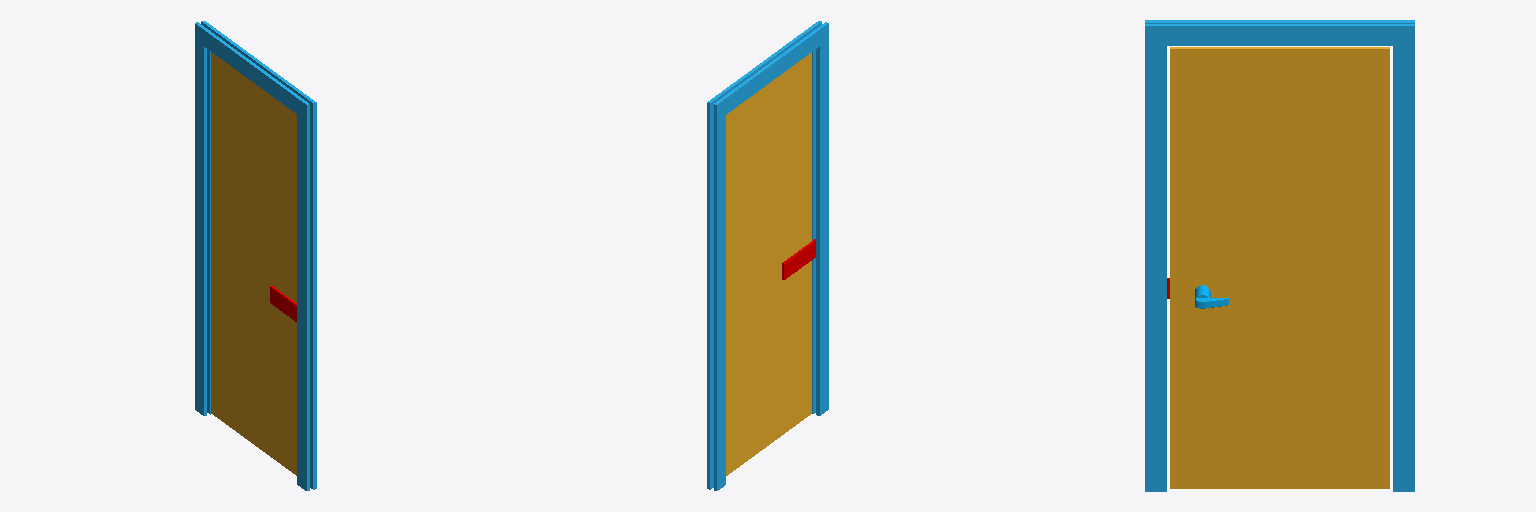
The robot description file, URDF, robot "door":
<?xml version="0.0" ?>
<robot name="door">

  <link name="frame_base">
    <contact>
        <lateral_friction value="0.5"/>
        <rolling_friction value="0.001"/>
        <spinning_friction value="0.01"/>
    </contact>
    <inertial>
      <origin rpy="0 0 0" xyz="0 0 0"/>
       <mass value="500"/>
       <inertia ixx="0.001" ixy="0" ixz="0" iyy="0.001" iyz="0" izz="0.001"/>
    </inertial>
    <visual>
      <origin rpy="0 0 0" xyz="0 0 0"/>
      <geometry>
				<box size="0 0 0"/>
      </geometry>
       <material name="blueish">
        <color rgba="0.2 0.75 1.0 1"/>
      </material>
    </visual>
    <collision>
      <origin rpy="0 0 0" xyz="0 0 0"/>
      <geometry>
				<box size="0 0 0"/>
      </geometry>
    </collision>
  </link>

  <link name="frame_1">
    <contact>
        <lateral_friction value="0.5"/>
        <rolling_friction value="0.001"/>
        <spinning_friction value="0.01"/>
    </contact>
    <inertial>
      <origin rpy="0 0 0" xyz="0 0 0"/>
       <mass value="500"/>
       <inertia ixx="0.001" ixy="0" ixz="0" iyy="0.001" iyz="0" izz="0.001"/>
    </inertial>
    <visual>
      <origin rpy="0 0 0" xyz="0 0 0"/>
      <geometry>
				<box size="0.022 0.1 2.3240000000000002"/>
      </geometry>
       <material name="blueish">
        <color rgba="0.2 0.75 1.0 1"/>
      </material>
    </visual>
    <collision>
      <origin rpy="0 0 0" xyz="0 0 0"/>
      <geometry>
				<box size="0.022 0.1 2.3240000000000002"/>
      </geometry>
    </collision>
  </link>
  <joint
    name="joint_base_1"
    type="fixed">
    <origin xyz="0 -0.21000000000000002 0.16200000000000014" rpy="0 0 0" />
    <parent link="frame_base" />
    <child link="frame_1" />
  </joint>

  <link name="frame_2">
    <contact>
        <lateral_friction value="0.5"/>
        <rolling_friction value="0.001"/>
        <spinning_friction value="0.01"/>
    </contact>
    <inertial>
      <origin rpy="0 0 0" xyz="0 0 0"/>
       <mass value="500"/>
       <inertia ixx="0.001" ixy="0" ixz="0" iyy="0.001" iyz="0" izz="0.001"/>
    </inertial>
    <visual>
      <origin rpy="0 0 0" xyz="0 0 0"/>
      <geometry>
				<box size="0.022 0.1 2.3240000000000001"/>
      </geometry>
       <material name="blueish">
        <color rgba="0.2 0.75 1.0 1"/>
      </material>
    </visual>
    <collision>
      <origin rpy="0 0 0" xyz="0 0 0"/>
      <geometry>
				<box size="0.022 0.1 2.3240000000000001"/>
      </geometry>
    </collision>
  </link>
  <joint
    name="joint_base_2"
    type="fixed">
    <origin xyz="0 0.91 0.16200000000000014" rpy="0 0 0" />
    <parent link="frame_base" />
    <child link="frame_2" />
  </joint>

  <link name="frame_3">
    <contact>
        <lateral_friction value="0.5"/>
        <rolling_friction value="0.001"/>
        <spinning_friction value="0.01"/>
    </contact>
    <inertial>
      <origin rpy="0 0 0" xyz="0 0 0"/>
       <mass value="500"/>
       <inertia ixx="0.001" ixy="0" ixz="0" iyy="0.001" iyz="0" izz="0.001"/>
    </inertial>
    <visual>
      <origin rpy="0 0 0" xyz="0 0 0"/>
      <geometry>
				<box size="0.022 1.2 0.1"/>
      </geometry>
       <material name="blueish">
        <color rgba="0.2 0.75 1.0 1"/>
      </material>
    </visual>
    <collision>
      <origin rpy="0 0 0" xyz="0 0 0"/>
      <geometry>
				<box size="0.022 1.2 0.1"/>
      </geometry>
    </collision>
  </link>
  <joint
    name="joint_base_3"
    type="fixed">
    <origin xyz="0 0.35 1.2740000000000002" rpy="0 0 0" />
    <parent link="frame_base" />
    <child link="frame_3" />
  </joint>

  <link name="frame_4">
    <contact>
        <lateral_friction value="0.5"/>
        <rolling_friction value="0.001"/>
        <spinning_friction value="0.01"/>
    </contact>
    <inertial>
      <origin rpy="0 0 0" xyz="0 0 0"/>
       <mass value="500"/>
       <inertia ixx="0.001" ixy="0" ixz="0" iyy="0.001" iyz="0" izz="0.001"/>
    </inertial>
    <visual>
      <origin rpy="0 0 0" xyz="0 0 0"/>
      <geometry>
				<box size="0.022 0.1 2.3240000000000002"/>
      </geometry>
       <material name="blueish">
        <color rgba="0.2 0.75 1.0 1"/>
      </material>
    </visual>
    <collision>
      <origin rpy="0 0 0" xyz="0 0 0"/>
      <geometry>
				<box size="0.022 0.1 2.3240000000000002"/>
      </geometry>
    </collision>
  </link>
  <joint
    name="joint_base_4"
    type="fixed">
    <origin xyz="-0.041499999999999995 -0.21000000000000002 0.16200000000000014" rpy="0 0 0" />
    <parent link="frame_base" />
    <child link="frame_4" />
  </joint>

  <link name="frame_5">
    <contact>
        <lateral_friction value="0.5"/>
        <rolling_friction value="0.001"/>
        <spinning_friction value="0.01"/>
    </contact>
    <inertial>
      <origin rpy="0 0 0" xyz="0 0 0"/>
       <mass value="500"/>
       <inertia ixx="0.001" ixy="0" ixz="0" iyy="0.001" iyz="0" izz="0.001"/>
    </inertial>
    <visual>
      <origin rpy="0 0 0" xyz="0 0 0"/>
      <geometry>
				<box size="0.022 0.1 2.3240000000000002"/>
      </geometry>
       <material name="blueish">
        <color rgba="0.2 0.75 1.0 1"/>
      </material>
    </visual>
    <collision>
      <origin rpy="0 0 0" xyz="0 0 0"/>
      <geometry>
				<box size="0.022 0.1 2.3240000000000002"/>
      </geometry>
    </collision>
  </link>
  <joint
    name="joint_base_5"
    type="fixed">
    <origin xyz="-0.041499999999999995 0.91 0.16200000000000014" rpy="0 0 0" />
    <parent link="frame_base" />
    <child link="frame_5" />
  </joint>

  <link name="frame_6">
    <contact>
        <lateral_friction value="0.5"/>
        <rolling_friction value="0.001"/>
        <spinning_friction value="0.01"/>
    </contact>
    <inertial>
      <origin rpy="0 0 0" xyz="0 0 0"/>
       <mass value="500"/>
       <inertia ixx="0.001" ixy="0" ixz="0" iyy="0.001" iyz="0" izz="0.001"/>
    </inertial>
    <visual>
      <origin rpy="0 0 0" xyz="0 0 0"/>
      <geometry>
				<box size="0.022 1.2 0.1"/>
      </geometry>
       <material name="blueish">
        <color rgba="0.2 0.75 1.0 1"/>
      </material>
    </visual>
    <collision>
      <origin rpy="0 0 0" xyz="0 0 0"/>
      <geometry>
				<box size="0.022 1.2 0.1"/>
      </geometry>
    </collision>
  </link>
  <joint
    name="joint_base_6"
    type="fixed">
    <origin xyz="-0.041499999999999995 0.35 1.2740000000000002" rpy="0 0 0" />
    <parent link="frame_base" />
    <child link="frame_6" />
  </joint>

  <link name="link_door">
    <contact>
        <lateral_friction value="0.5"/>
        <rolling_friction value="0.001"/>
        <spinning_friction value="0.01"/>
    </contact>
    <inertial>
      <origin rpy="0 0 0" xyz="0 0 0"/>
       <mass value="0.1"/>
       <inertia ixx="0.00001" ixy="0" ixz="0" iyy="0.00001" iyz="0" izz="0.00001"/>
    </inertial>
    <visual>
      <origin rpy="0 0 0" xyz="0 0 0"/>
      <geometry>
				<box size="0 0 0"/>
      </geometry>
       <material name="yellowish">
        <color rgba="1 0.75 0.2 1"/>
      </material>
    </visual>
    <collision>
      <origin rpy="0 0 0" xyz="0 0 0"/>
      <geometry>
				<box size="0 0 0"/>
      </geometry>
    </collision>
  </link>
  <joint
    name="joint_frame_door"
    type="revolute">
    <!-- <origin xyz="0.041499999999999995 1.0 1.10088" rpy="0 0 0" /> -->
    <!-- <origin xyz="0.0 1.0 1.10088" rpy="0 0 0" /> -->
    <origin xyz="0.0 0.87 1.10088" rpy="0 0 0" />
    <parent link="frame_base" />
    <child link="link_door" />
    <dynamics damping="0.5" friction="0.001"/>
    <axis xyz="0 0 1" />
    <limit lower="0.0" upper="1.57" velocity="2.0" effort="0.1" />
  </joint>

  <link name="link_door_centered">
    <contact>
        <lateral_friction value="0.5"/>
        <rolling_friction value="0.001"/>
        <spinning_friction value="0.01"/>
    </contact>
    <inertial>
      <origin rpy="0 0 0" xyz="0 0 0"/>
       <mass value="0.1"/>
       <inertia ixx="0.00001" ixy="0" ixz="0" iyy="0.00001" iyz="0" izz="0.00001"/>
    </inertial>
    <visual>
      <origin rpy="0 0 0" xyz="0 0 0"/>
      <geometry>
				<box size="0 0 0"/>
      </geometry>
       <material name="yellowish">
        <color rgba="1 0.75 0.2 1"/>
      </material>
    </visual>
    <collision>
      <origin rpy="0 0 0" xyz="0 0 0"/>
      <geometry>
				<box size="0 0 0"/>
      </geometry>
    </collision>
  </link>
  <joint
    name="joint_proxy"
    type="fixed">
    <!-- <origin xyz="-0.041499999999999995 -1.0 -1.10088" rpy="0 0 0" /> -->
    <!-- <origin xyz="-0.0 -1.0 -1.10088" rpy="0 0 0" /> -->
    <origin xyz="-0.0 -0.87 -1.10088" rpy="0 0 0" />
    <parent link="link_door" />
    <child link="link_door_centered" />
  </joint>

  <link name="link_0">
    <contact>
        <lateral_friction value="0.5"/>
        <rolling_friction value="0.001"/>
        <spinning_friction value="0.01"/>
    </contact>
    <inertial>
      <origin rpy="0 0 0" xyz="0 0 0"/>
       <mass value="0.1"/>
       <inertia ixx="0.00001" ixy="0" ixz="0" iyy="0.00001" iyz="0" izz="0.00001"/>
    </inertial>
    <visual>
      <origin rpy="0 0 0" xyz="0 0 0"/>
      <geometry>
				<box size="0.022 1.0 2.20176"/>
      </geometry>
       <material name="yellowish">
        <color rgba="1 0.75 0.2 1"/>
      </material>
    </visual>
    <collision>
      <origin rpy="0 0 0" xyz="0 0 0"/>
      <geometry>
				<box size="0.022 1.0 2.20176"/>
      </geometry>
    </collision>
  </link>
  <joint
    name="joint_door_link"
    type="fixed">
    <origin xyz="0 0.35 0.1120000000000001" rpy="0 0 0" />
    <parent link="link_door_centered" />
    <child link="link_0" />
  </joint>

  <link name="knob_body_base">
    <contact>
        <lateral_friction value="0.84"/>
        <rolling_friction value="0.003"/>
        <spinning_friction value="0.002"/>
    </contact>
    <inertial>
      <origin rpy="0 0 0" xyz="0 0 0"/>
       <mass value="0.001"/>
       <inertia ixx="0.00001" ixy="0" ixz="0" iyy="0.00001" iyz="0" izz="0.00001"/>
    </inertial>
    <visual>
      <origin rpy="0 0 0" xyz="0 0 0"/>
      <geometry>
				<box size="0 0 0"/>
      </geometry>
       <material name="blueish">
        <color rgba="0.1 0.75 1.0 1"/>
      </material>
    </visual>
    <collision>
      <origin rpy="0 0 0" xyz="0 0 0"/>
      <geometry>
				<box size="0 0 0"/>
      </geometry>
    </collision>
  </link>
  <joint
    name="joint_door_knob"
    type="revolute">
    <origin xyz="0.011 0 0" rpy="0 0 0" />
    <parent link="link_door_centered" />
    <child link="knob_body_base" />
    <dynamics damping="1.72" friction="0.0"/>
    <axis xyz="1 0 0" />
    <limit lower="-1.5" upper="1.5" velocity="2.0" effort="0.001" />
  </joint>

  <link name="knob_body_4">
    <contact>
        <lateral_friction value="0.84"/>
        <rolling_friction value="0.003"/>
        <spinning_friction value="0.002"/>
    </contact>
    <inertial>
      <origin rpy="0 0 0" xyz="0 0 0"/>
       <mass value="0.001"/>
       <inertia ixx="0.00001" ixy="0" ixz="0" iyy="0.00001" iyz="0" izz="0.00001"/>
    </inertial>
    <visual>
      <origin rpy="0 0 0" xyz="0 0 0"/>
      <geometry>
				<mesh filename="body_4.stl" scale="0.003 0.003 0.003"/>
      </geometry>
       <material name="blueish">
        <color rgba="0.1 0.75 1.0 1"/>
      </material>
    </visual>
    <collision>
      <origin rpy="0 0 0" xyz="0 0 0"/>
      <geometry>
				<mesh filename="body_4.stl" scale="0.003 0.003 0.003"/>
      </geometry>
    </collision>
  </link>
  <joint
    name="joint_knob_4"
    type="fixed">
    <origin xyz="0.011 0 0" rpy="1.57 3.14 1.57" />
    <parent link="knob_body_base" />
    <child link="knob_body_4" />
  </joint>

  <link name="knob_body_1">
    <contact>
        <lateral_friction value="0.84"/>
        <rolling_friction value="0.003"/>
        <spinning_friction value="0.002"/>
    </contact>
    <inertial>
      <origin rpy="0 0 0" xyz="0 0 0"/>
       <mass value="0.001"/>
       <inertia ixx="0.00001" ixy="0" ixz="0" iyy="0.00001" iyz="0" izz="0.00001"/>
    </inertial>
    <visual>
      <origin rpy="0 0 0" xyz="0 0 0"/>
      <geometry>
				<mesh filename="body_1.stl" scale="0.003 0.003 0.003"/>
      </geometry>
       <material name="blueish">
        <color rgba="0.1 0.75 1.0 1"/>
      </material>
    </visual>
    <collision>
      <origin rpy="0 0 0" xyz="0 0 0"/>
      <geometry>
				<mesh filename="body_1.stl" scale="0.003 0.003 0.003"/>
      </geometry>
    </collision>
  </link>
  <joint
    name="joint_knob_1"
    type="fixed">
    <origin xyz="0.011 0 0" rpy="1.57 3.14 1.57" />
    <parent link="knob_body_base" />
    <child link="knob_body_1" />
  </joint>

  <link name="knob_body_2">
    <contact>
        <lateral_friction value="0.84"/>
        <rolling_friction value="0.003"/>
        <spinning_friction value="0.002"/>
    </contact>
    <inertial>
      <origin rpy="0 0 0" xyz="0 0 0"/>
       <mass value="0.001"/>
       <inertia ixx="0.00001" ixy="0" ixz="0" iyy="0.00001" iyz="0" izz="0.00001"/>
    </inertial>
    <visual>
      <origin rpy="0 0 0" xyz="0 0 0"/>
      <geometry>
				<mesh filename="body_2.stl" scale="0.003 0.003 0.003"/>
      </geometry>
       <material name="blueish">
        <color rgba="0.1 0.75 1.0 1"/>
      </material>
    </visual>
    <collision>
      <origin rpy="0 0 0" xyz="0 0 0"/>
      <geometry>
				<mesh filename="body_2.stl" scale="0.003 0.003 0.003"/>
      </geometry>
    </collision>
  </link>
  <joint
    name="joint_knob_2"
    type="fixed">
    <origin xyz="0.011 0 0" rpy="1.57 3.14 1.57" />
    <parent link="knob_body_base" />
    <child link="knob_body_2" />
  </joint>

  <link name="knob_body_3">
    <contact>
        <lateral_friction value="0.84"/>
        <rolling_friction value="0.003"/>
        <spinning_friction value="0.002"/>
    </contact>
    <inertial>
      <origin rpy="0 0 0" xyz="0 0 0"/>
       <mass value="0.001"/>
       <inertia ixx="0.00001" ixy="0" ixz="0" iyy="0.00001" iyz="0" izz="0.00001"/>
    </inertial>
    <visual>
      <origin rpy="0 0 0" xyz="0 0 0"/>
      <geometry>
				<mesh filename="body_3.stl" scale="0.003 0.003 0.003"/>
      </geometry>
       <material name="blueish">
        <color rgba="0.1 0.75 1.0 1"/>
      </material>
    </visual>
    <collision>
      <origin rpy="0 0 0" xyz="0 0 0"/>
      <geometry>
				<mesh filename="body_3.stl" scale="0.003 0.003 0.003"/>
      </geometry>
    </collision>
  </link>
  <joint
    name="joint_knob_3"
    type="fixed">
    <origin xyz="0.011 0 0" rpy="1.57 3.14 1.57" />
    <parent link="knob_body_base" />
    <child link="knob_body_3" />
  </joint>


  <link name="knob_body_5">
    <contact>
        <lateral_friction value="0.84"/>
        <rolling_friction value="0.003"/>
        <spinning_friction value="0.002"/>
    </contact>
    <inertial>
      <origin rpy="0 0 0" xyz="0 0 0"/>
       <mass value="0.001"/>
       <inertia ixx="0.00001" ixy="0" ixz="0" iyy="0.00001" iyz="0" izz="0.00001"/>
    </inertial>
    <visual>
      <origin rpy="0 0 0" xyz="0 0 0"/>
      <geometry>
				<mesh filename="body_5.stl" scale="0.003 0.003 0.003"/>
      </geometry>
       <material name="blueish">
        <color rgba="0.1 0.75 1.0 1"/>
      </material>
    </visual>
    <collision>
      <origin rpy="0 0 0" xyz="0 0 0"/>
      <geometry>
				<mesh filename="body_5.stl" scale="0.003 0.003 0.003"/>
      </geometry>
    </collision>
  </link>
  <joint
    name="joint_knob_5"
    type="fixed">
    <origin xyz="0.011 0 0" rpy="1.57 3.14 1.57" />
    <parent link="knob_body_base" />
    <child link="knob_body_5" />
  </joint>

  <link name="knob_latch">
    <contact>
        <lateral_friction value="0.84"/>
        <rolling_friction value="0.003"/>
        <spinning_friction value="0.002"/>
    </contact>
    <inertial>
      <origin rpy="0 0 0" xyz="0 0 0"/>
       <mass value="0.001"/>
       <inertia ixx="0.00001" ixy="0" ixz="0" iyy="0.00001" iyz="0" izz="0.00001"/>
    </inertial>
    <visual>
      <origin rpy="0 0 0" xyz="0 0 0"/>
      <geometry>
				<box size="0.015 0.36666666666666664 0.1"/>
      </geometry>
       <material name="red">
        <color rgba="1.0 0.0 0.0 1"/>
      </material>
    </visual>
    <collision>
      <origin rpy="0 0 0" xyz="0 0 0"/>
      <geometry>
				<box size="0.015 0.36666666666666664 0.1"/>
      </geometry>
    </collision>
  </link>
  <joint
    name="joint_knob_latch"
    type="fixed">
    <origin xyz="-0.03175 0 0" rpy="0 0 0" />
    <parent link="knob_body_base" />
    <child link="knob_latch" />
  </joint>

</robot>

--- Facts derived from the render (not from the file) ---
Views: 3 orthographic renders of the robot side by side, from view 1: azimuth 30°, elevation 25°; view 2: azimuth 150°, elevation 25°; view 3: azimuth 270°, elevation 25°.
Model door with 17 links and 16 joints (2 revolute, 14 fixed), rooted at frame_base, posed every joint at zero.
Visible links, largest first — view 1: link_0, frame_4, frame_5, frame_1, frame_6, frame_2, frame_3; view 2: link_0, frame_4, frame_5, frame_2, frame_6, frame_1, frame_3, knob_latch; view 3: link_0, frame_1, frame_2, frame_3, frame_6.
Boxes of the visible links, x1,y1,x2,y2 form: link_0: (211,52,296,475); frame_4: (297,100,309,490); frame_5: (195,22,206,415); frame_1: (304,97,316,489); frame_6: (196,23,308,115); frame_2: (201,21,210,414); frame_3: (202,21,314,118); link_0: (726,52,811,475); frame_4: (816,22,828,415); frame_5: (714,99,725,490); frame_2: (707,98,719,489); frame_6: (715,23,827,115); frame_1: (812,21,821,413); frame_3: (708,21,820,118); knob_latch: (782,239,815,279); link_0: (1170,47,1389,488); frame_1: (1145,24,1166,491); frame_2: (1393,24,1414,491); frame_3: (1148,24,1411,45); frame_6: (1148,20,1411,23).
Bounding box of the posed robot: 0.2085 × 1.22 × 2.32 m (x, y, z).
5 mesh visuals loaded from 5 distinct referenced files (5 binary STL).
